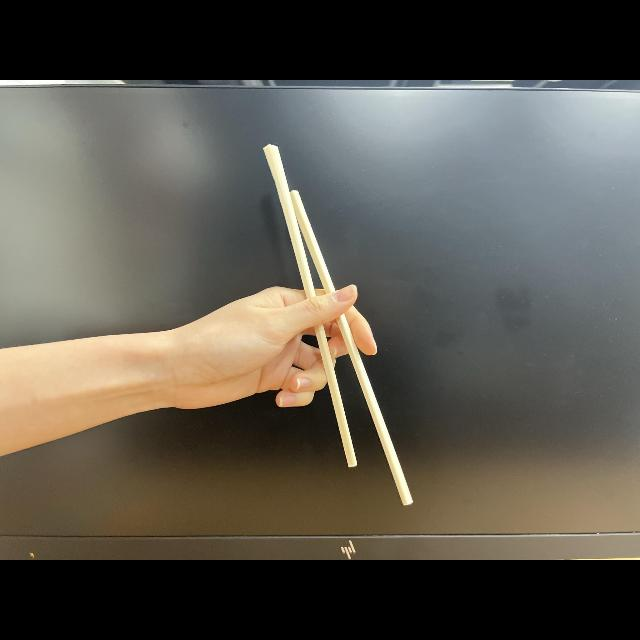stick: (210, 146, 414, 506)
